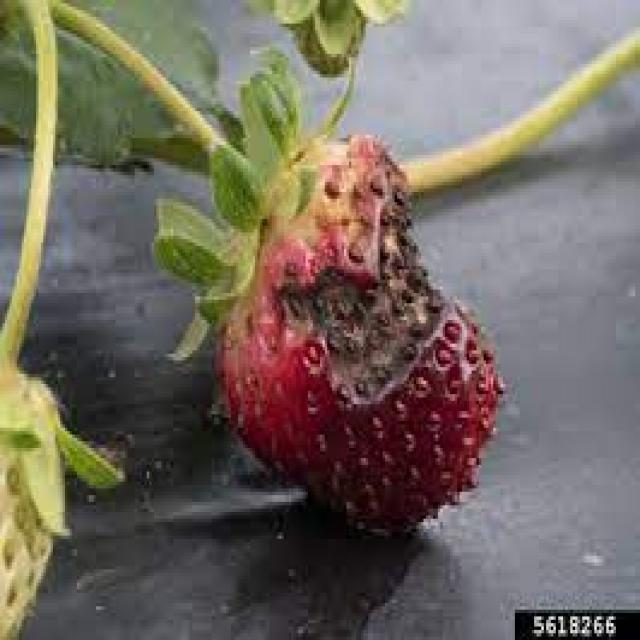Mancha negra Antracnosis: (212, 126, 506, 522)
